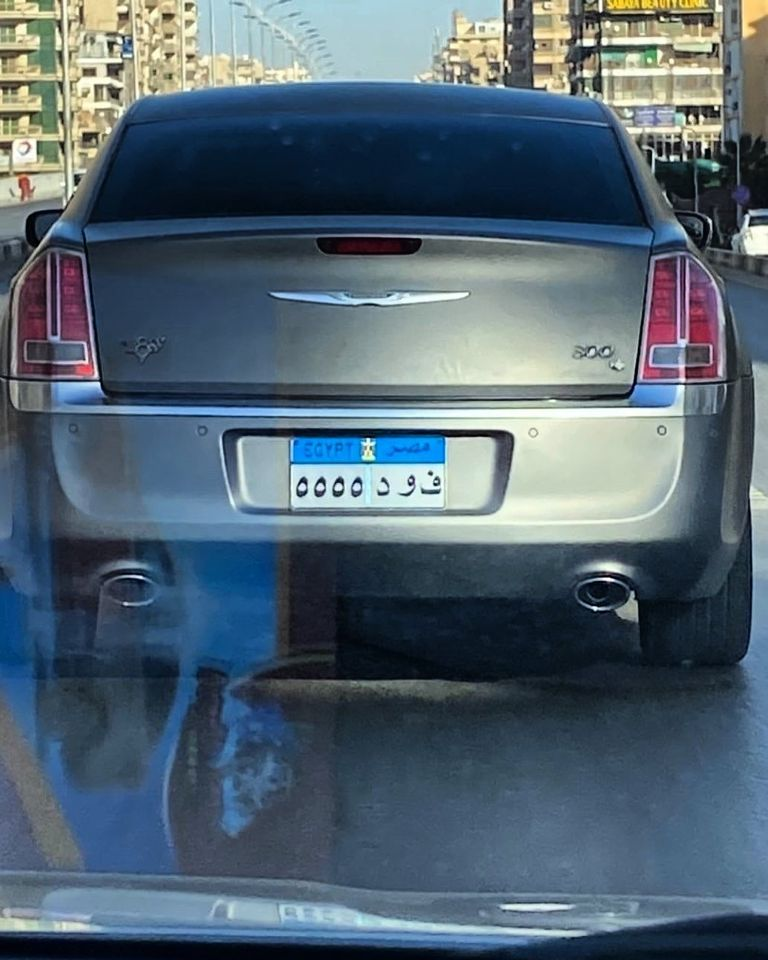carpl: (287, 449, 449, 512)
